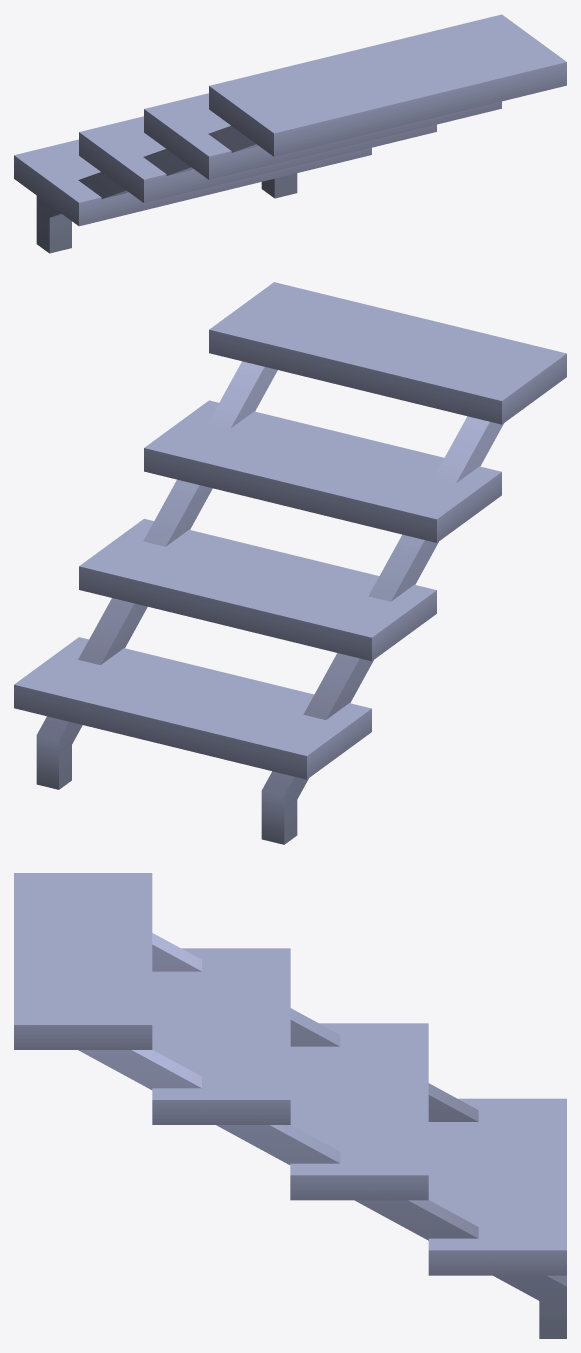
File: kenney-building-stairs-open-short.glb
3 renders of one model, top to bottom at view 1: azimuth 30°, elevation 25°; view 2: azimuth 150°, elevation 25°; view 3: azimuth 270°, elevation 25°, orthographic. The views are drawn at different scales.
Parts seen in each view (by area): view 1: stairs-open-short; view 2: stairs-open-short; view 3: stairs-open-short.
Part boxes in pixels (box(x1,y1,x2,y2)): stairs-open-short: box(14, 14, 566, 253); stairs-open-short: box(14, 282, 566, 844); stairs-open-short: box(14, 873, 566, 1338).
Bounding box in the file's own units: 1.3 × 1.3 × 2.
1 material, 1 textured.
